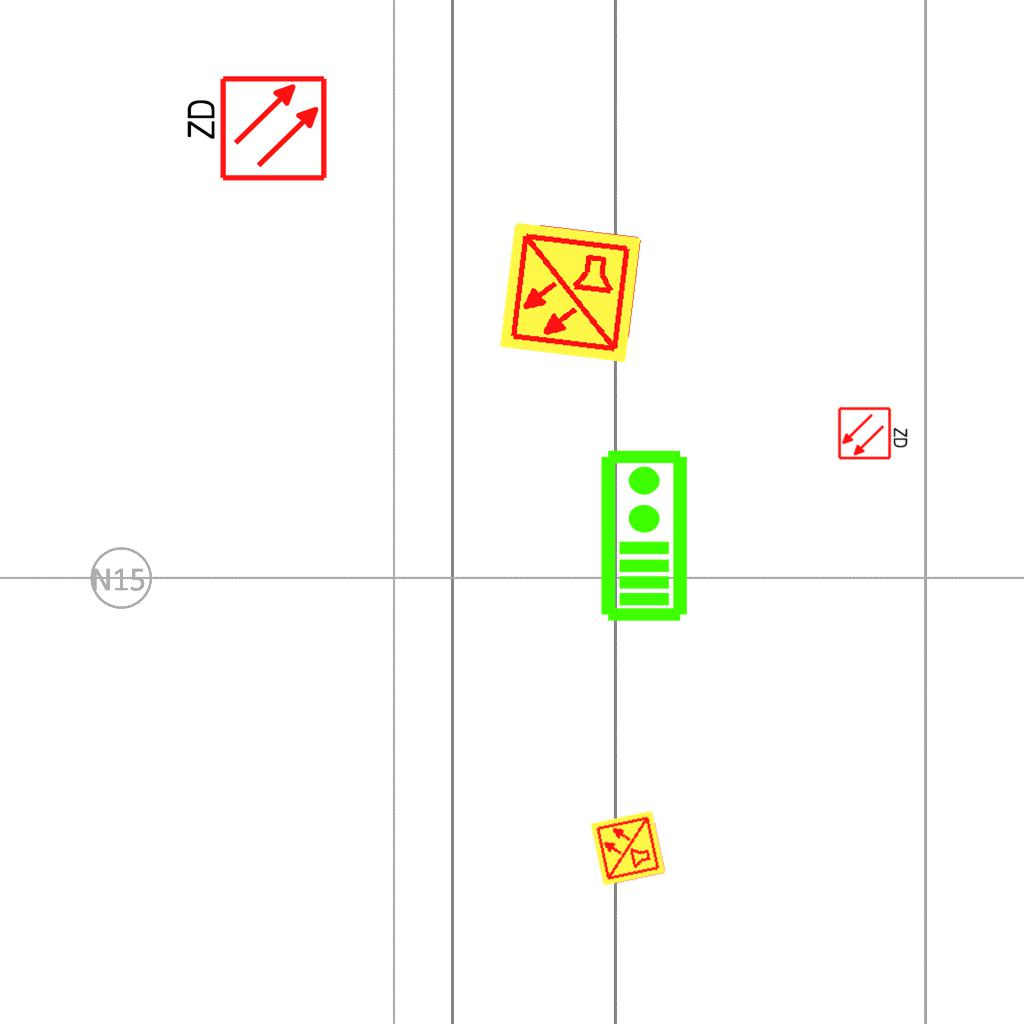Gegensprechanlage_mit_Video: (595, 447, 690, 623)
OKW_Multisensormelder_(Kombination_optischer_Rauch-Kahlenmonoxid_Waerme-Melder): (496, 218, 644, 366), (588, 808, 668, 888)
ZD_Melder_in_Zwischendecke_mit_Revisionsoeffnung_mind_40_x_40_cm: (180, 73, 329, 187), (837, 404, 911, 461)
